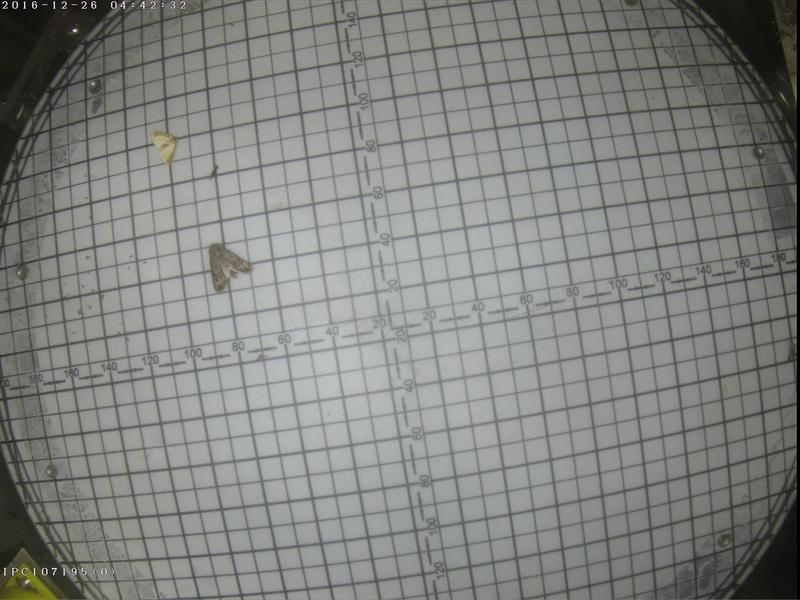Little Gecko: (208, 240, 253, 290)
